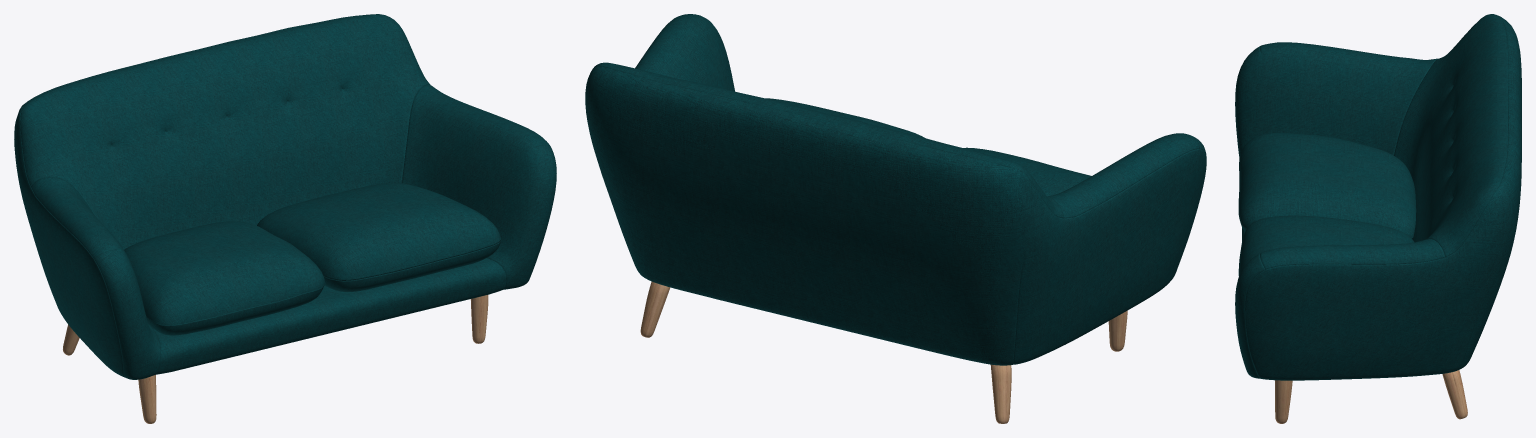
File: dylan_2_seater_sofa_mineral_blue.glb
3 renders of one model, left to right at view 1: azimuth 30°, elevation 25°; view 2: azimuth 150°, elevation 25°; view 3: azimuth 270°, elevation 25°, orthographic. The views are drawn at different scales.
Visible parts, largest first — view 1: Dylan_2_Seater; view 2: Dylan_2_Seater; view 3: Dylan_2_Seater.
Boxes of the visible parts, x1,y1,x2,y2 form: Dylan_2_Seater: [14, 14, 556, 423]; Dylan_2_Seater: [585, 14, 1206, 423]; Dylan_2_Seater: [1235, 14, 1521, 423].
Size of what is drawn, in the model's own units: 154 by 80.59 by 84.24.
2 materials, 2 textured.
